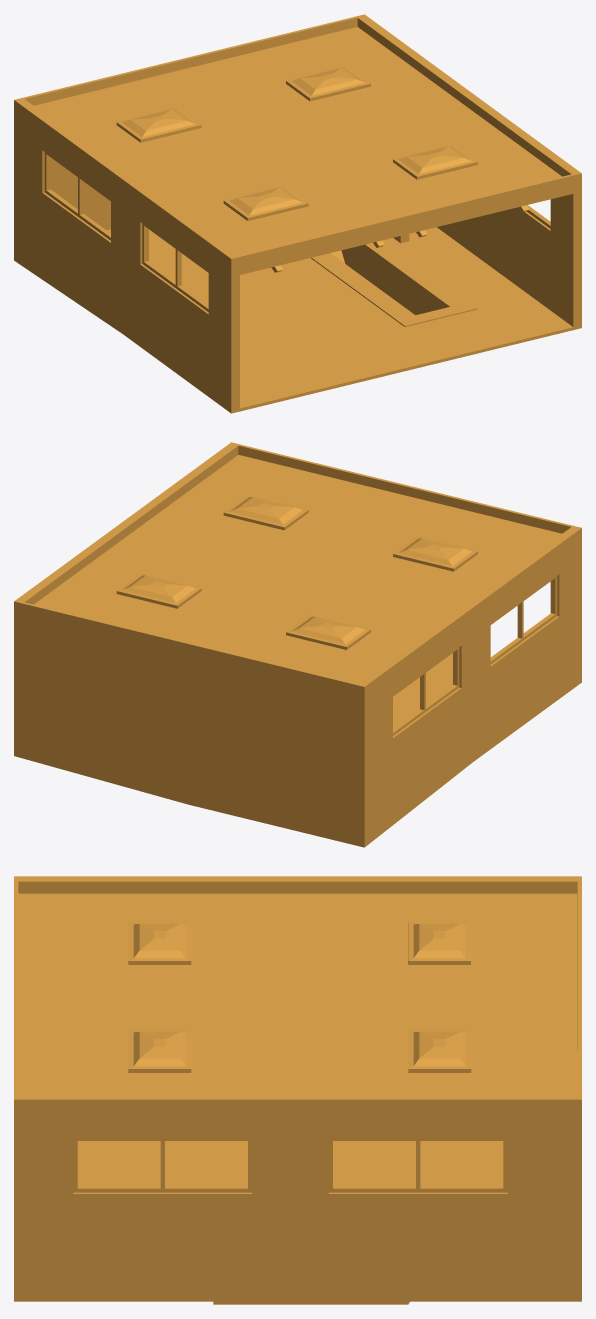
Rendered from building-car-repair.fbx.
3 renders of one model, top to bottom at view 1: azimuth 30°, elevation 25°; view 2: azimuth 150°, elevation 25°; view 3: azimuth 270°, elevation 25°, orthographic. The views are drawn at different scales.
Visible parts, largest first — view 1: building-car-repair; view 2: building-car-repair; view 3: building-car-repair.
Boxes of the visible parts, bbox=[...] form: building-car-repair: bbox=[14, 14, 581, 413]; building-car-repair: bbox=[14, 442, 581, 847]; building-car-repair: bbox=[14, 876, 581, 1304].
Bounding box in the file's own units: 12.1 × 6.49 × 13.
